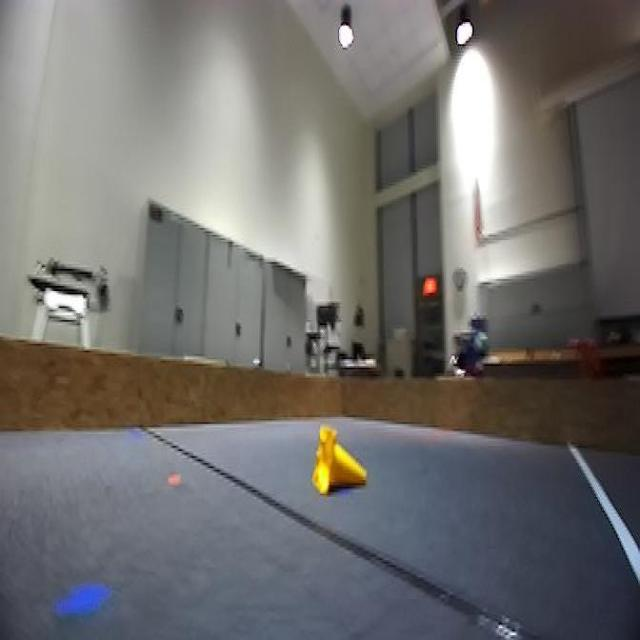frc_cone: (308, 431, 362, 502)
